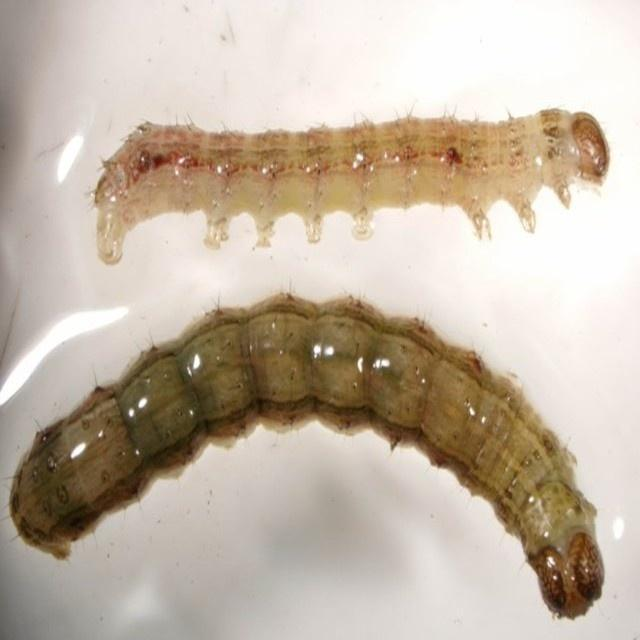gusano_cogollero: (20, 290, 605, 610), (91, 93, 602, 260)
